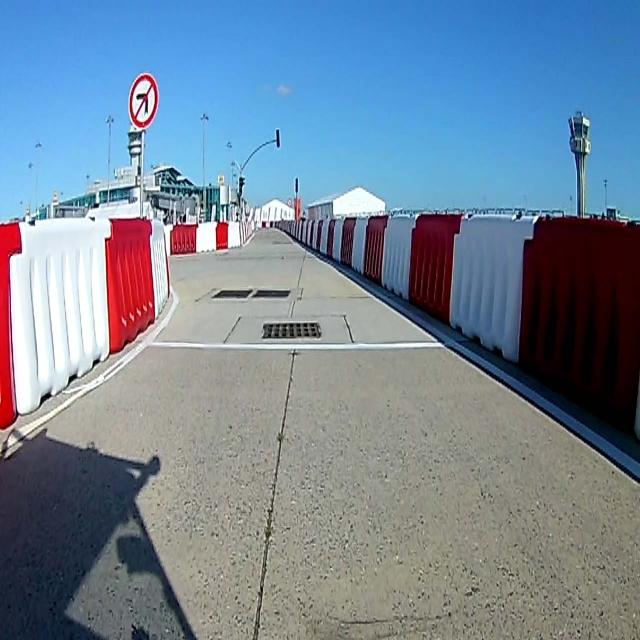soladonulmez: (127, 71, 161, 129)
